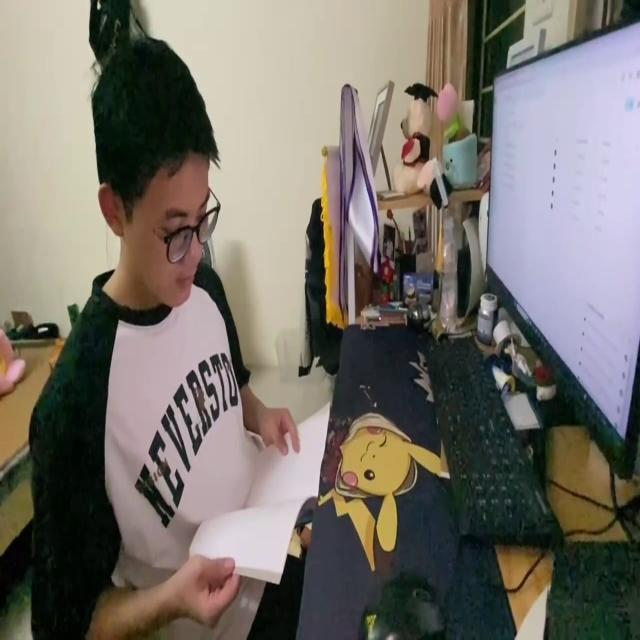book: (184, 400, 330, 591)
laptop: (477, 11, 640, 487)
student: (26, 35, 301, 640)
